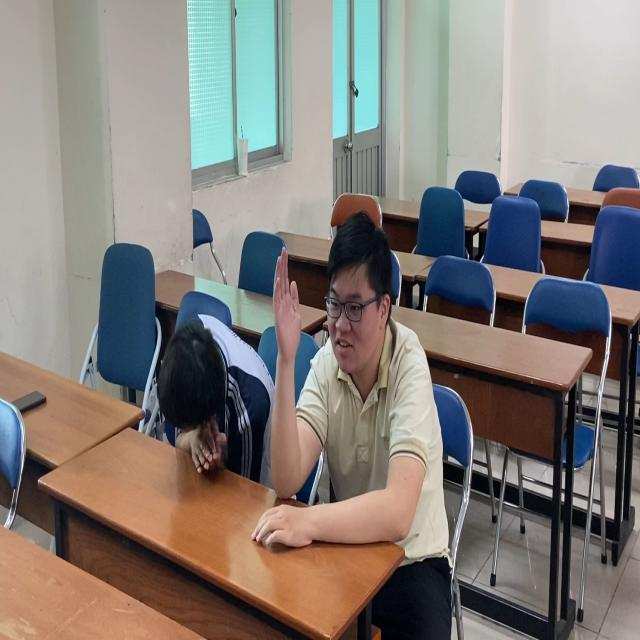raise_hand: (272, 207, 419, 539)
sleep: (146, 301, 268, 495)
